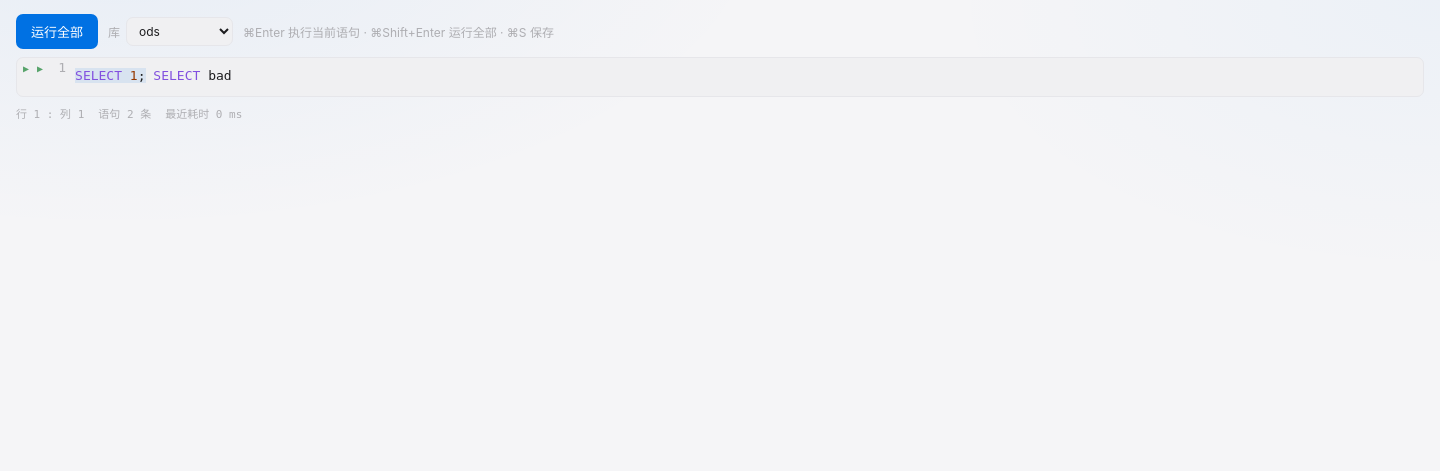
Test case: HiveSqlConsole › 运行全部:payload 携带 database/limit/offset,出现 N 个结果 tab 与一张 active 卡
Click the button with test id "btn-hive-run" at (57, 32), box [16, 14, 98, 49]
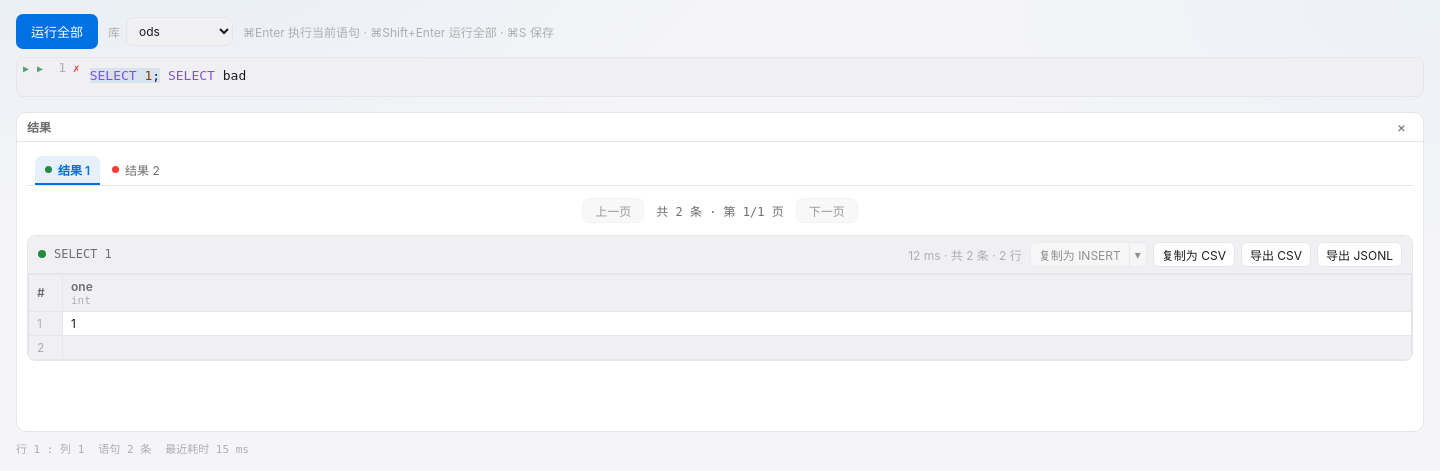
Check: the number of "SqlResultCard" components is 1, box [27, 234, 1413, 360]
Check: the text "SELECT 1" is shown, box [54, 247, 112, 261]
Note: 切到第二个 tab:错误结果卡。
Click the button with test id "result-tab-" at (136, 170), box [102, 156, 170, 184]
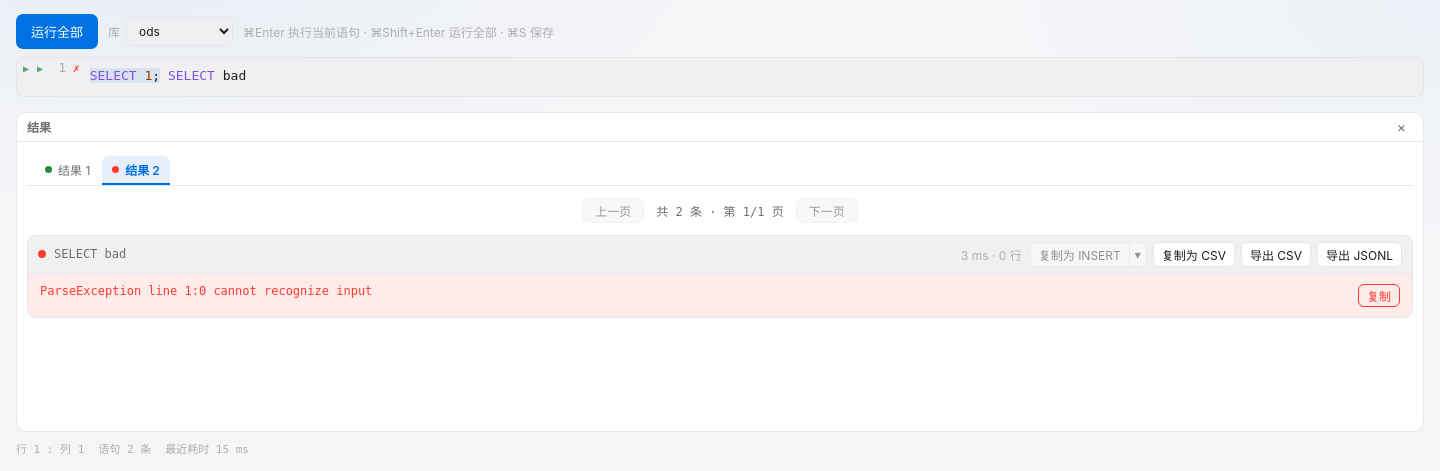
Check: the text "ParseException line 1:0 cannot recognize input" is shown, box [40, 284, 372, 298]
